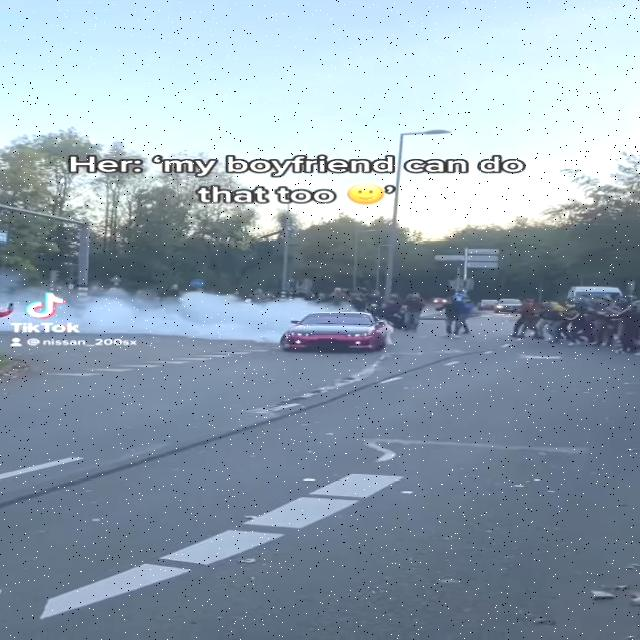car: (285, 307, 391, 359)
